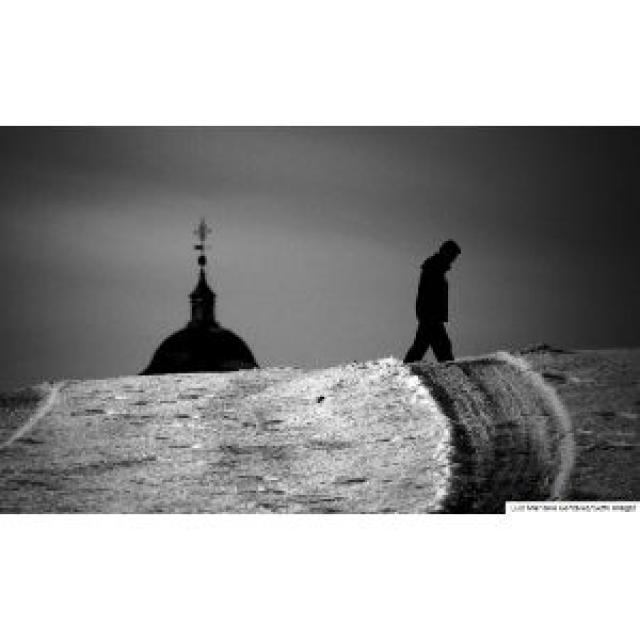nonfall: (383, 233, 507, 360)
